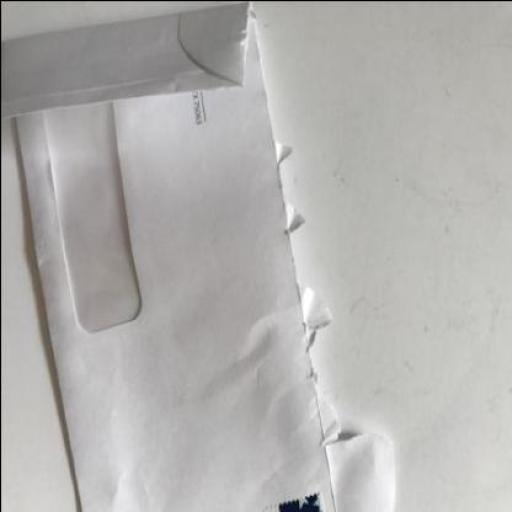paper: (1, 1, 398, 511)
